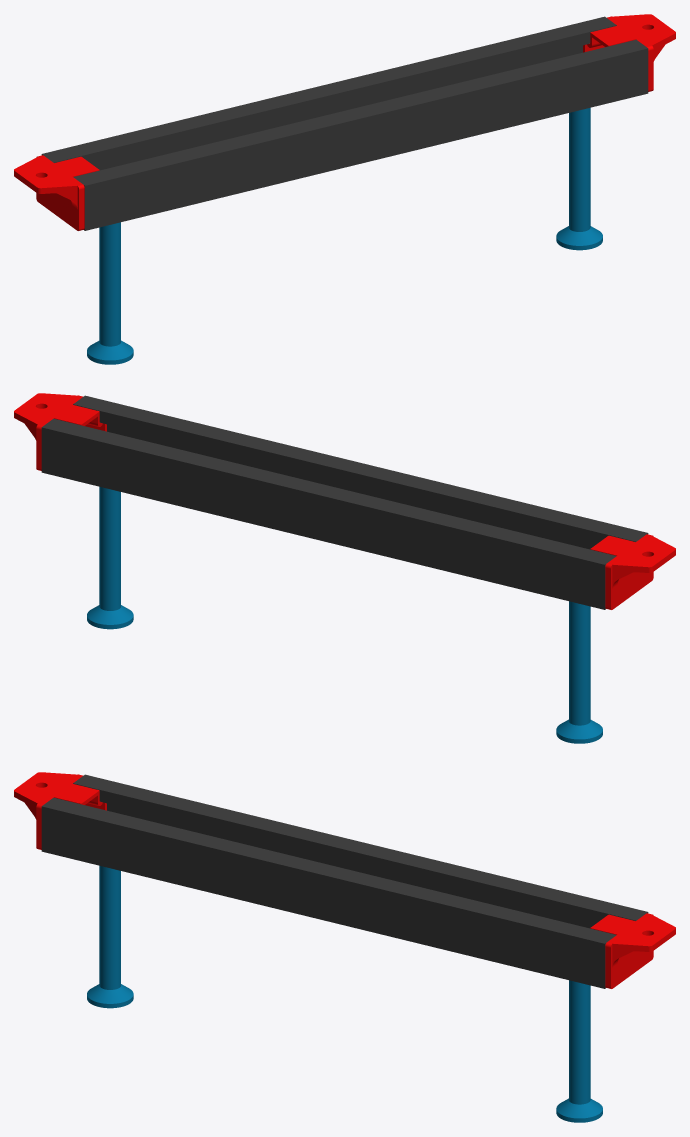
File: anchor.glb
3 views of the same model, one above another, from view 1: azimuth 30°, elevation 25°; view 2: azimuth 150°, elevation 25°; view 3: azimuth 330°, elevation 25° (orthographic).
Parts seen in each view (by area): view 1: Mesh; view 2: Mesh; view 3: Mesh.
Boxes of the visible parts, box(x1,y1,x2,y2) form: Mesh: box(14, 14, 675, 364); Mesh: box(14, 393, 675, 743); Mesh: box(14, 772, 675, 1122).
Bounding box in the file's own units: 340 × 100 × 40.1.
